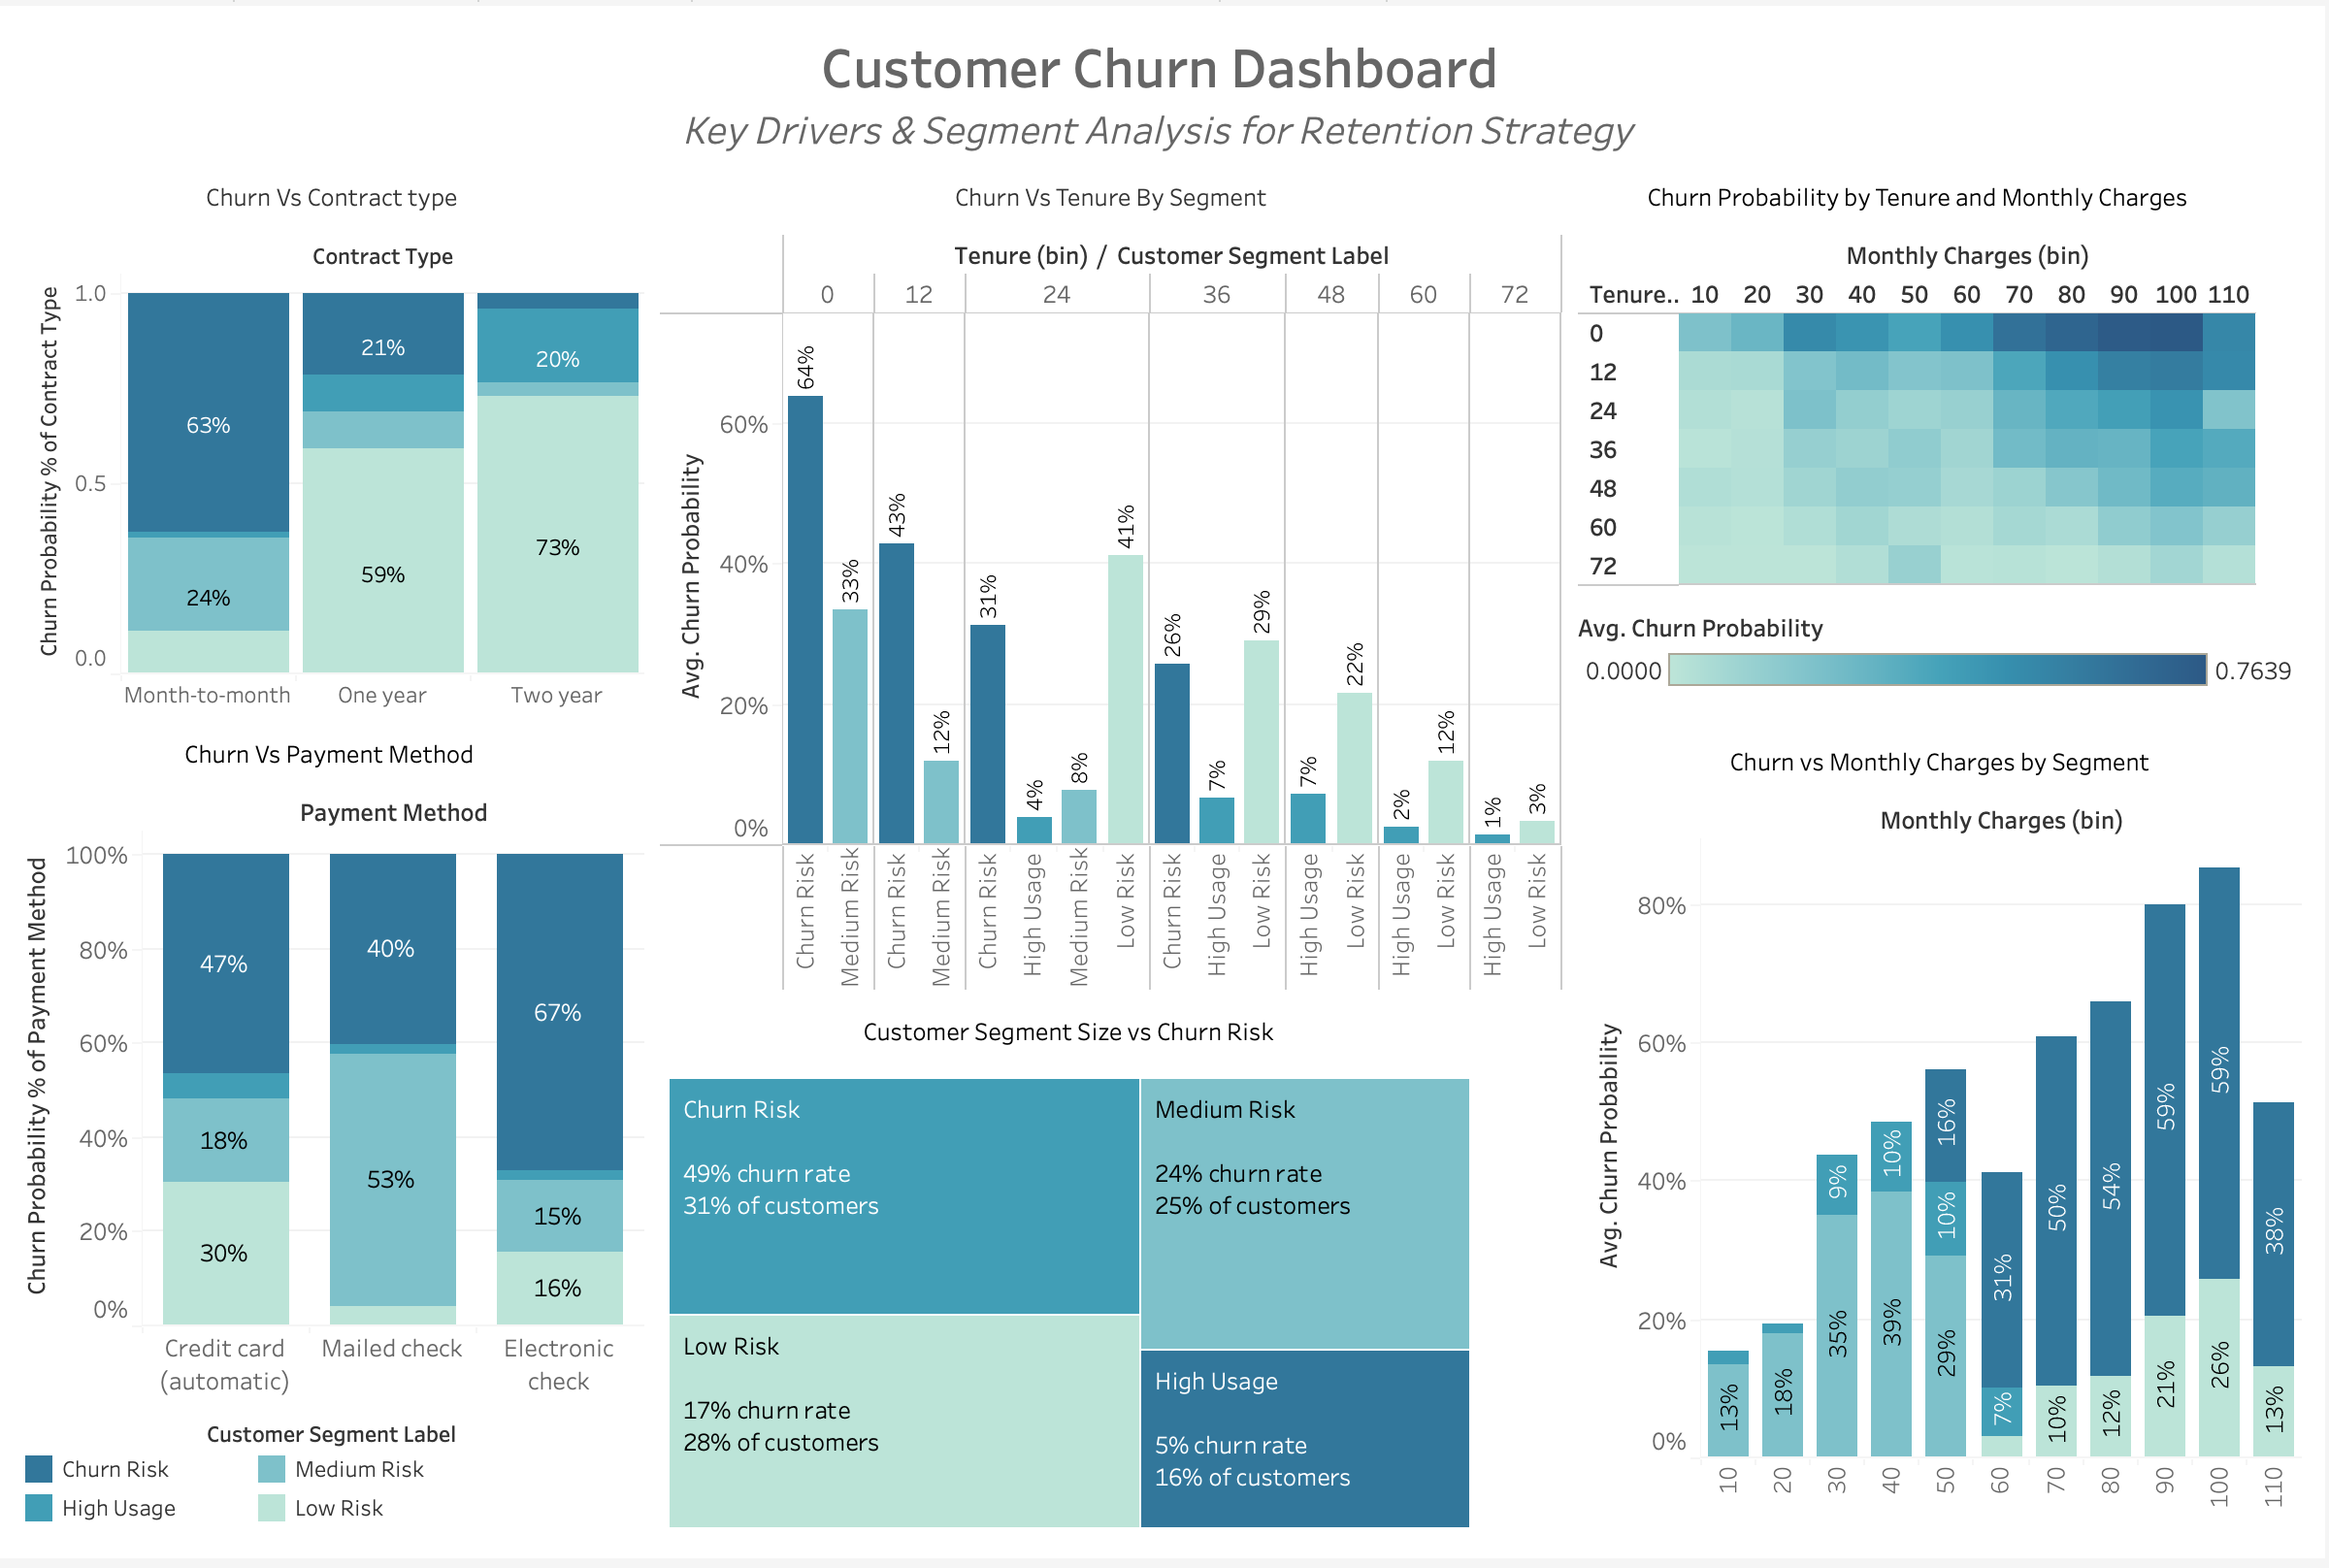

The page's visual inventory and layout, read from the dashboard file:
{"tool":"tableau","page":{"name":"Dashboard 1","canvas":[1200,800],"ordinal":0},"visuals":[{"type":"text","box":[8,8,1184,74]},{"type":"worksheet","title":"Churn Vs Contract Type","mark":"Bar","cols":["ContractType"],"box":[8,82,330,286.6]},{"type":"worksheet","title":"Churn vs Tenure by Segment ","mark":"Bar","rows":["Churn_Probability"],"cols":["Tenure (bin)","Calculation_1533968283700285440"],"box":[338,82,472.8,430]},{"type":"worksheet","title":"Churn Probability Heatmap: Tenure vs Monthly Charges","mark":"Square","rows":["Tenure (bin)"],"cols":["Monthly Charges (bin)"],"box":[810.8,82,381,226]},{"type":"legend","title":"Churn Probability Heatmap: Tenure vs Monthly Charges","param":"[federated.13jfg600ig6kme18riof206ct092].[avg:Churn_Probability:qk]","box":[810.8,308,381,65]},{"type":"worksheet","title":"Churn Vs Payment Method","mark":"Bar","cols":["PaymentMethod"],"box":[8,368.6,330,355]},{"type":"worksheet","title":"Churn Vs Monthly Charges","mark":"Bar","rows":["Churn_Probability"],"cols":["Monthly Charges (bin)"],"box":[810.8,373,381,419]},{"type":"worksheet","title":"Tree Map","mark":"Square","box":[338,512,472.8,280]},{"type":"legend","title":"Churn Vs Contract Type","param":"[federated.13jfg600ig6kme18riof206ct092].[none:Calculation_1533968283700285440:n","box":[8,723.6,330,68.4]}]}

Visuals, with their boxes in screenshot pixels (x1, y1, x2, y2), scaled from the page's 1200x800 canvas onto the 2329x1568 screenshot:
text: locate(16, 16, 2313, 161)
"Churn Vs Contract Type" worksheet (Bar marks): locate(16, 161, 656, 723)
"Churn vs Tenure by Segment " worksheet (Bar marks): locate(656, 161, 1574, 1003)
"Churn Probability Heatmap: Tenure vs Monthly Charges" worksheet (Square marks): locate(1574, 161, 2313, 604)
"Churn Probability Heatmap: Tenure vs Monthly Charges" legend: locate(1574, 604, 2313, 731)
"Churn Vs Payment Method" worksheet (Bar marks): locate(16, 723, 656, 1419)
"Churn Vs Monthly Charges" worksheet (Bar marks): locate(1574, 731, 2313, 1552)
"Tree Map" worksheet (Square marks): locate(656, 1003, 1574, 1552)
"Churn Vs Contract Type" legend: locate(16, 1419, 656, 1552)
